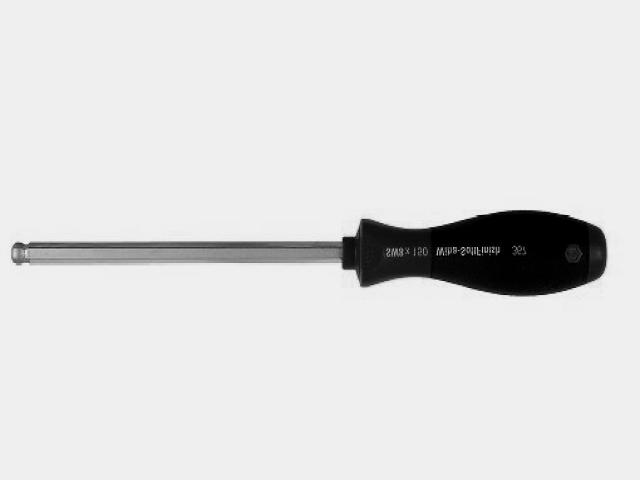Screwdriver: (11, 211, 606, 296)
